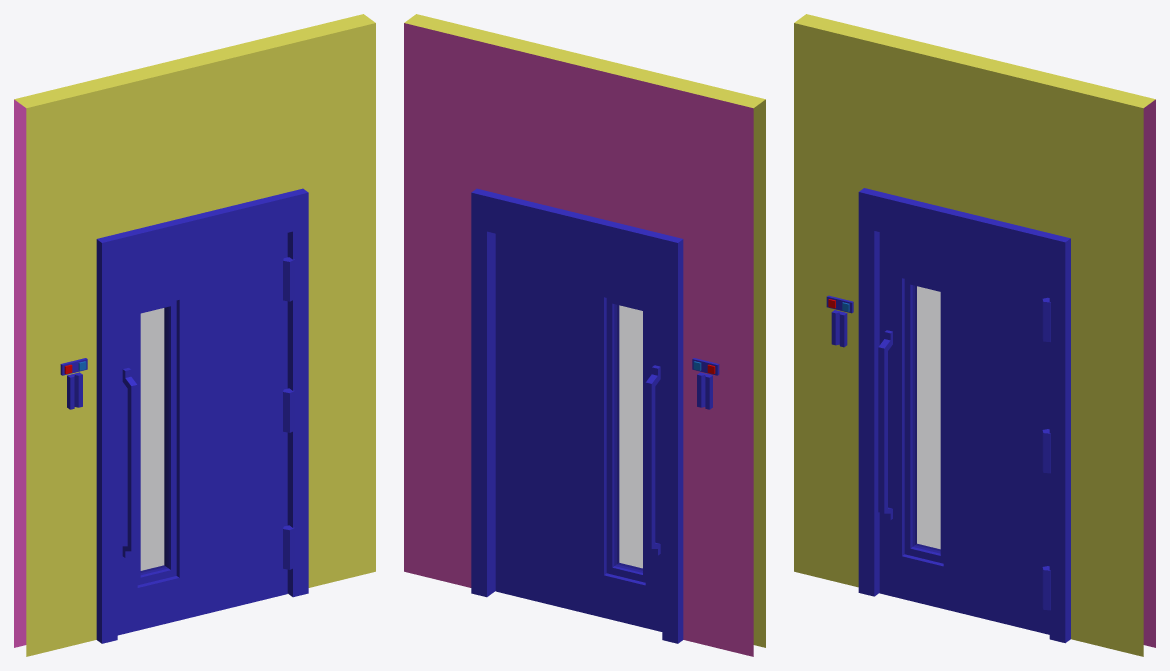
File: SM_wall4.fbx
3 renders of one model, left to right at view 1: azimuth 30°, elevation 25°; view 2: azimuth 150°, elevation 25°; view 3: azimuth 330°, elevation 25°, orthographic.
Parts seen in each view (by area): view 1: wall4; view 2: wall4; view 3: wall4.
Part boxes in pixels (x1=…): wall4: x1=14, y1=14, x2=375, y2=656; wall4: x1=404, y1=14, x2=765, y2=656; wall4: x1=794, y1=14, x2=1155, y2=656.
Size of the model in its own units: 200 by 300 by 29.47.
